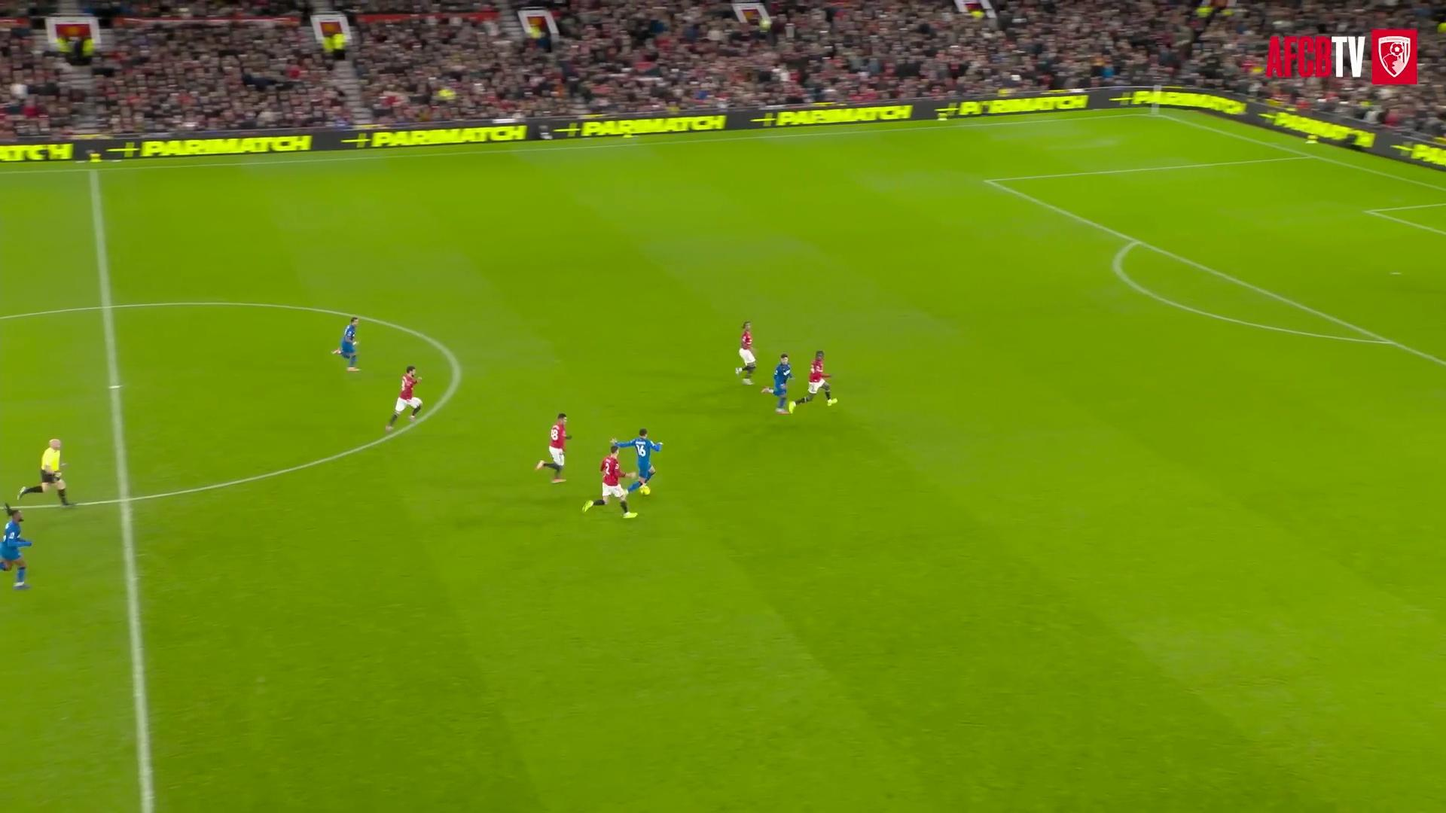player: (583, 444, 636, 518), (612, 428, 661, 495), (0, 505, 31, 588), (535, 413, 571, 483), (386, 365, 422, 431), (794, 351, 836, 405), (761, 353, 793, 413), (333, 318, 358, 371), (735, 321, 755, 385)
referee: (17, 439, 73, 507)
